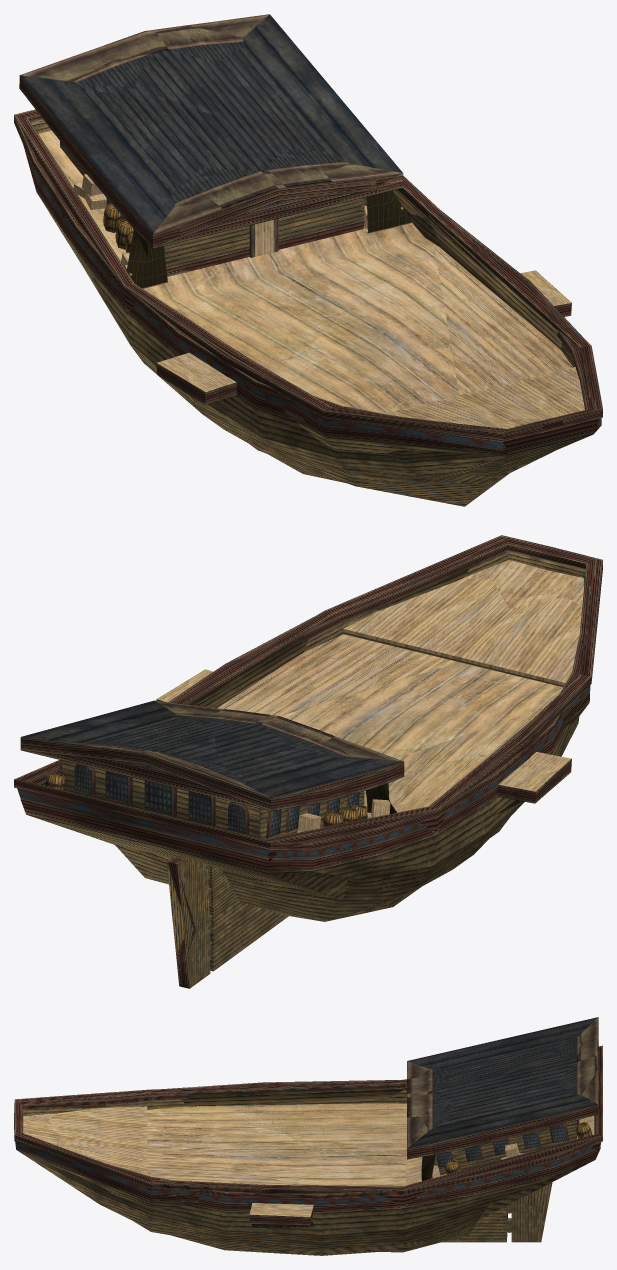
Rendered from pir_m_shp_slp_regular.fbx.
3 renders of one model, top to bottom at view 1: azimuth 30°, elevation 25°; view 2: azimuth 150°, elevation 25°; view 3: azimuth 270°, elevation 25°, orthographic. The views are drawn at different scales.
Parts seen in each view (by area): view 1: deck1.001, deck1, hullB.003, hullB.002, toptrim_left6, hullB.001, cabin_roof_trim, stripeB.002, deck_right7, polySurface2, polySurface1, toptrim_left4 (+18 smaller); view 2: deck1.001, deck1, deck_right7, toptrim_left6, stripeA_b5, polySurface2, toptrim_left4, hullB.003, stripeA_railing, polySurface1, cabin_roof_trim, deck_left3 (+24 smaller); view 3: deck1.001, deck1, polySurface2, polySurface1, toptrim_left6, hullB.003, hullB.002, deck_right7, toptrim_left4, cabin_roof_trim, stripeA_b5, stripeA_railing (+23 smaller).
Boxes of the visible parts, <box> form: deck1.001: <box>38,131,459,413</box>; deck1: <box>39,130,572,398</box>; hullB.003: <box>20,14,402,233</box>; hullB.002: <box>82,47,336,170</box>; toptrim_left6: <box>14,114,602,439</box>; hullB.001: <box>85,90,260,194</box>; cabin_roof_trim: <box>19,25,401,248</box>; stripeB.002: <box>20,14,403,247</box>; deck_right7: <box>365,231,584,428</box>; polySurface2: <box>90,279,585,484</box>; polySurface1: <box>38,195,507,462</box>; toptrim_left4: <box>14,109,597,433</box>; deck1.001: <box>249,634,563,811</box>; deck1: <box>217,634,544,812</box>; deck_right7: <box>343,578,581,682</box>; toptrim_left6: <box>14,535,602,842</box>; stripeA_b5: <box>20,720,566,873</box>; polySurface2: <box>115,801,524,921</box>; toptrim_left4: <box>14,536,597,850</box>; hullB.003: <box>21,700,403,797</box>; stripeA_railing: <box>14,569,602,849</box>; polySurface1: <box>313,717,579,878</box>; cabin_roof_trim: <box>54,709,404,811</box>; deck_left3: <box>343,560,583,685</box>; deck1.001: <box>147,1103,594,1186</box>; deck1: <box>147,1103,594,1185</box>; polySurface2: <box>18,1151,487,1255</box>; polySurface1: <box>18,1150,555,1235</box>; toptrim_left6: <box>14,1045,602,1190</box>; hullB.003: <box>407,1017,597,1148</box>; hullB.002: <box>432,1038,576,1125</box>; deck_right7: <box>47,1106,147,1175</box>; toptrim_left4: <box>14,1046,602,1199</box>; cabin_roof_trim: <box>407,1036,598,1159</box>; stripeA_b5: <box>188,1146,600,1213</box>; stripeA_railing: <box>14,1080,600,1193</box>.
Size of the model in its own units: 7476 by 5106 by 13997.
2 materials, 2 textured.
